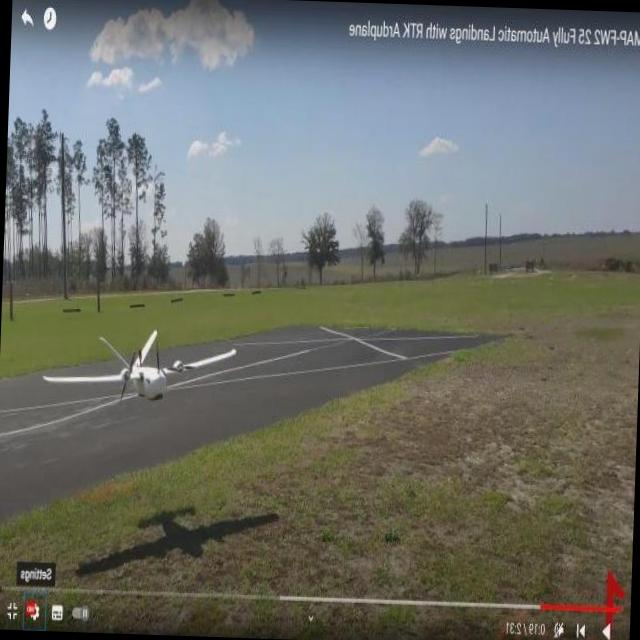UAV: (62, 325, 226, 429)
